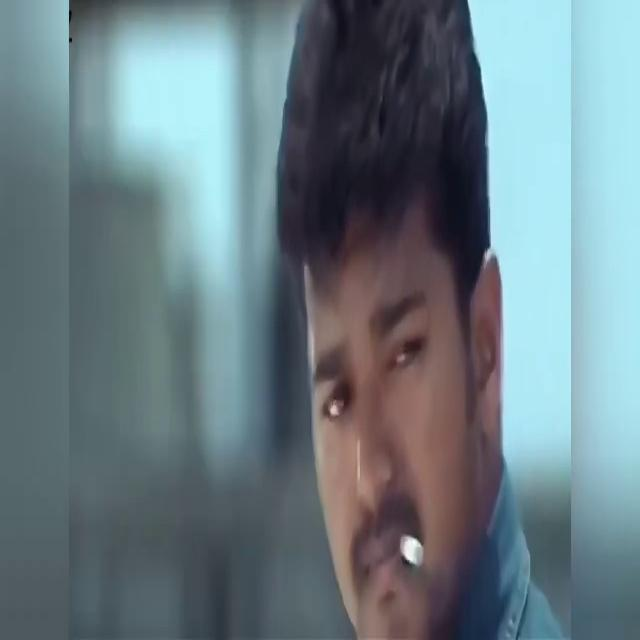smoking: (385, 529, 391, 577)
